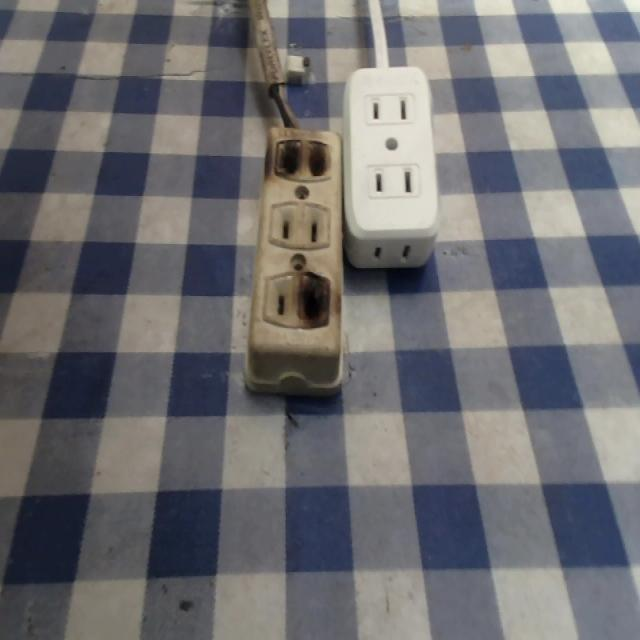-: (276, 133, 336, 183), (295, 272, 335, 332)
